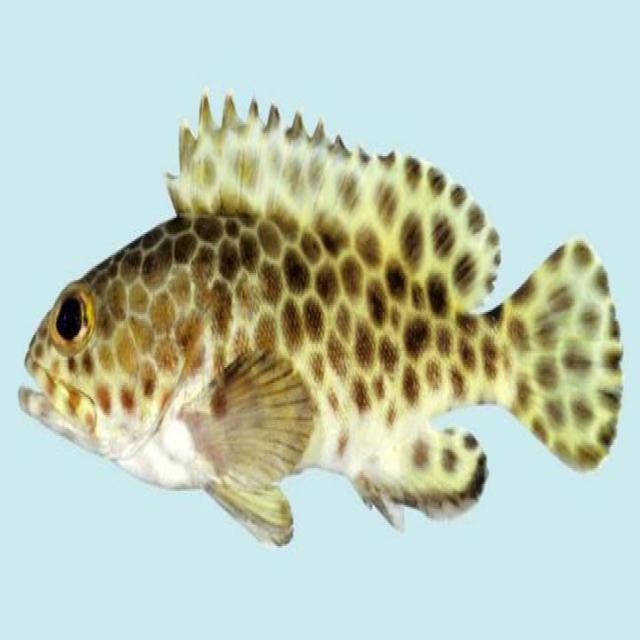ikan: (14, 64, 628, 566)
